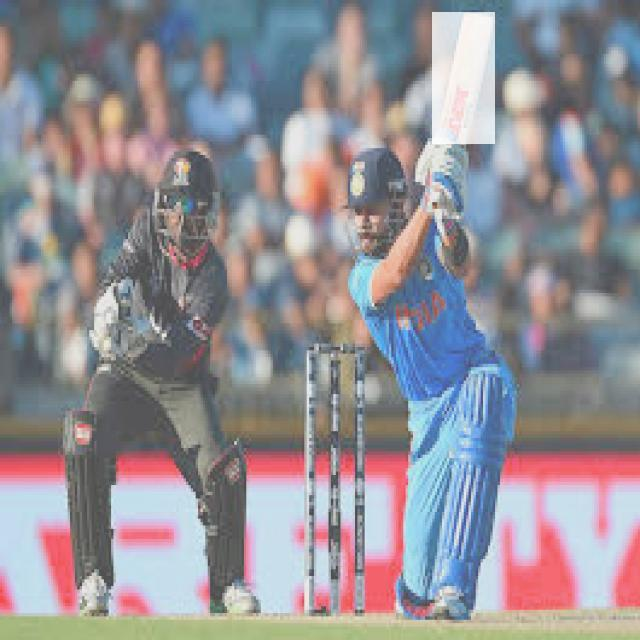bat: (435, 13, 494, 144)
